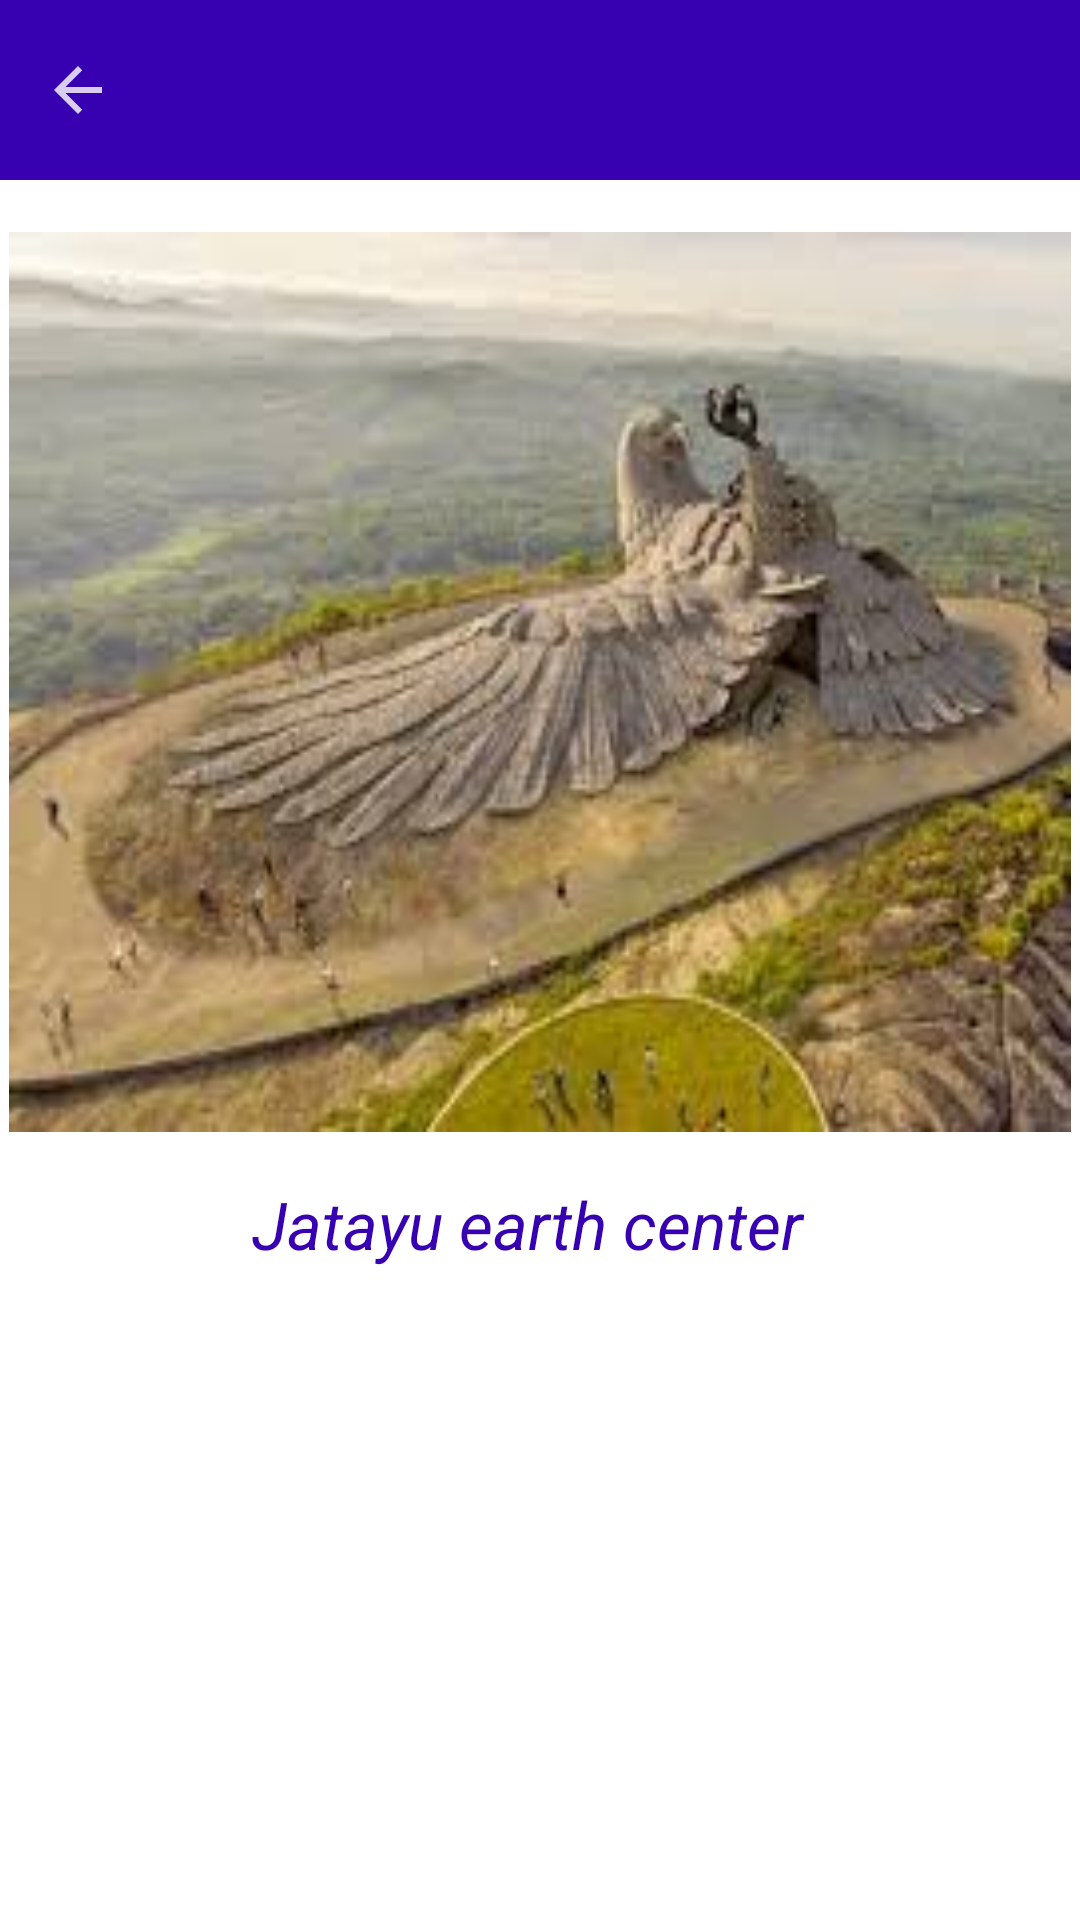

Point at icon controls on the screen. Image size 1080px×1920px, points as point (x, y).
arrow back: point (78, 90)
